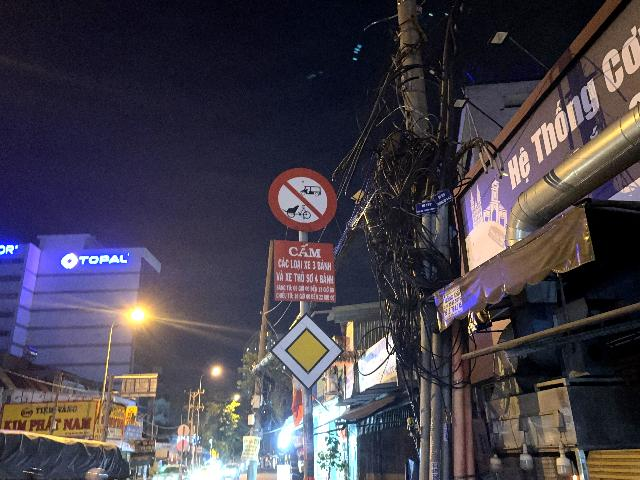bat-dau-duong-uu-tien: (269, 312, 345, 391)
cam-xe-3-banh-xe-tho-so-4-banh: (268, 167, 337, 231)
